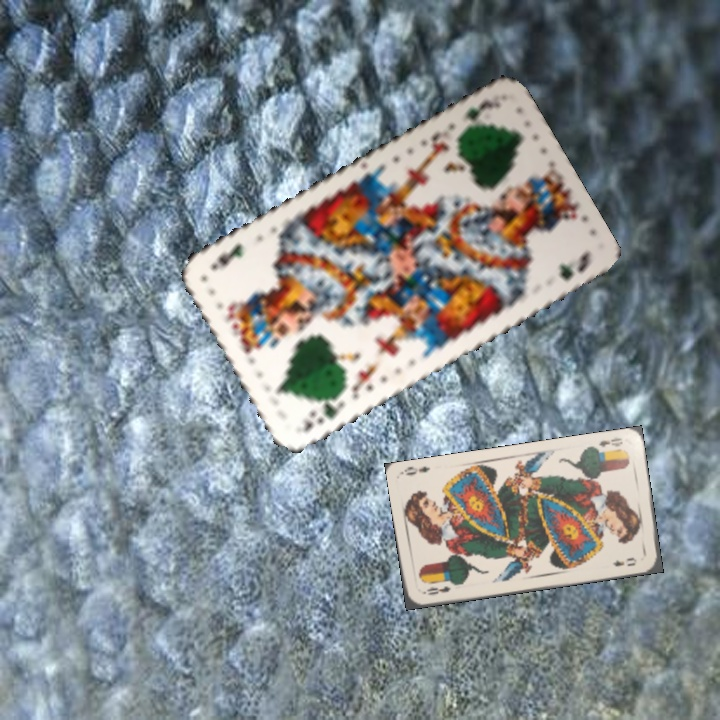EO: (587, 434, 625, 455), (418, 582, 453, 598)
GK: (296, 391, 346, 436), (457, 95, 504, 133)
